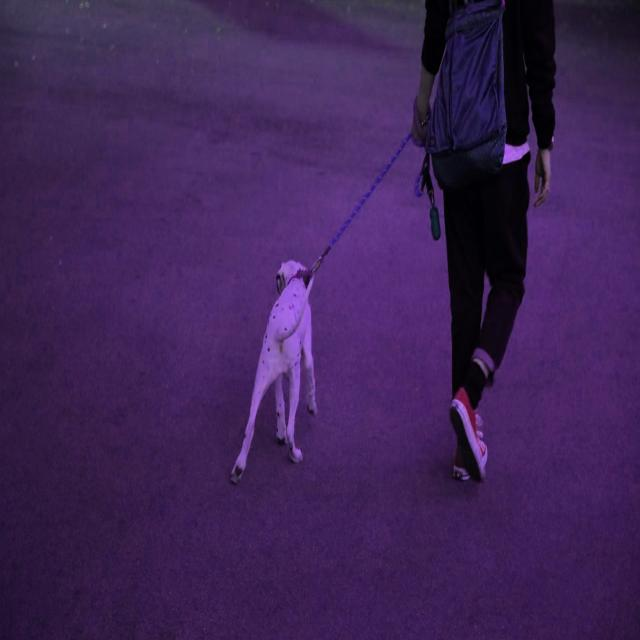Leashed_Dog: (230, 74, 471, 487)
